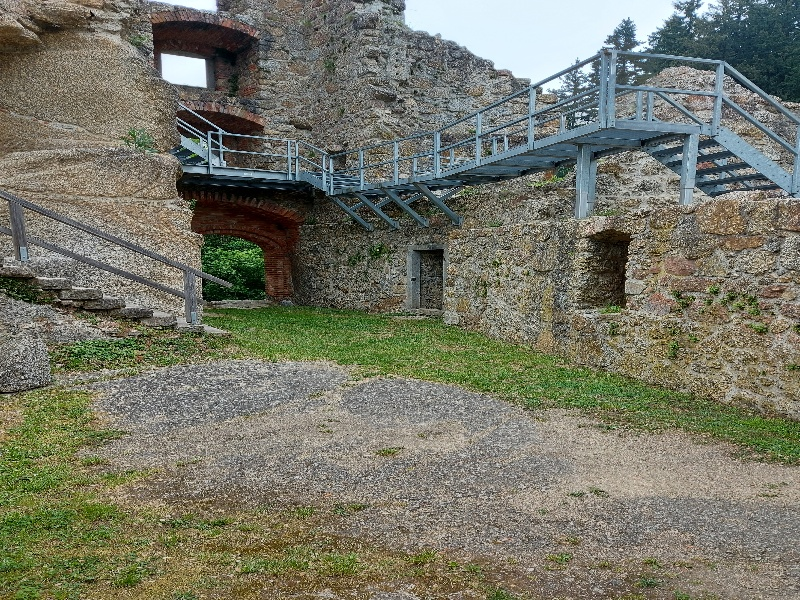door1: (402, 236, 459, 312)
